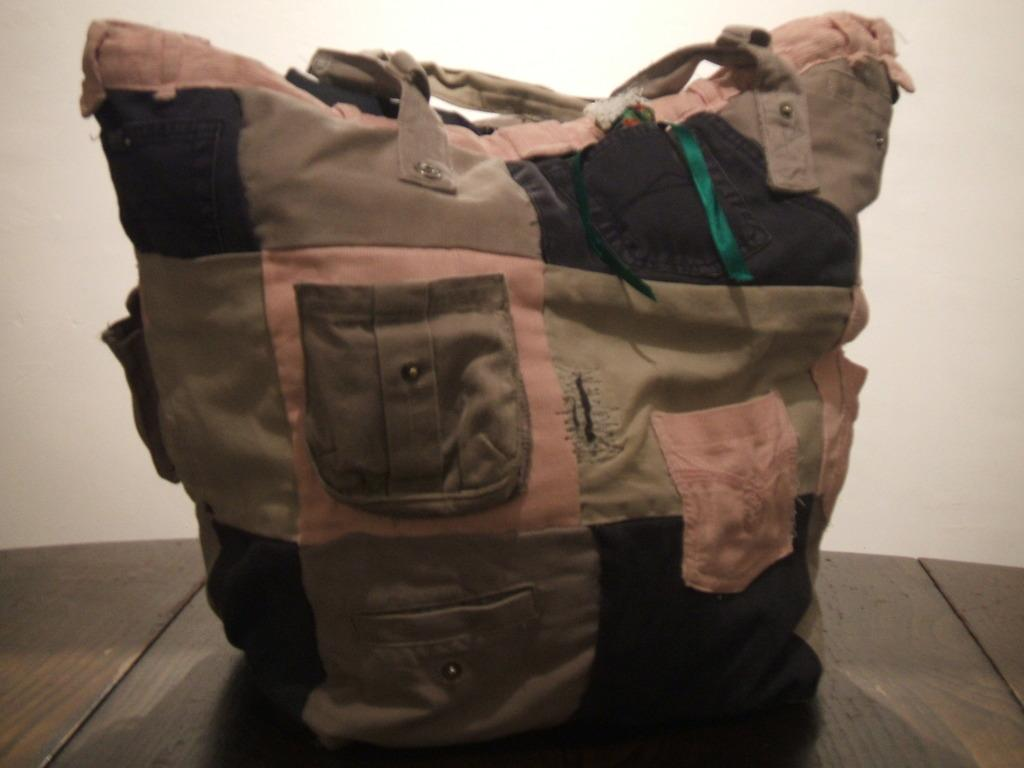Luggage-and-bags: (120, 34, 869, 722)
